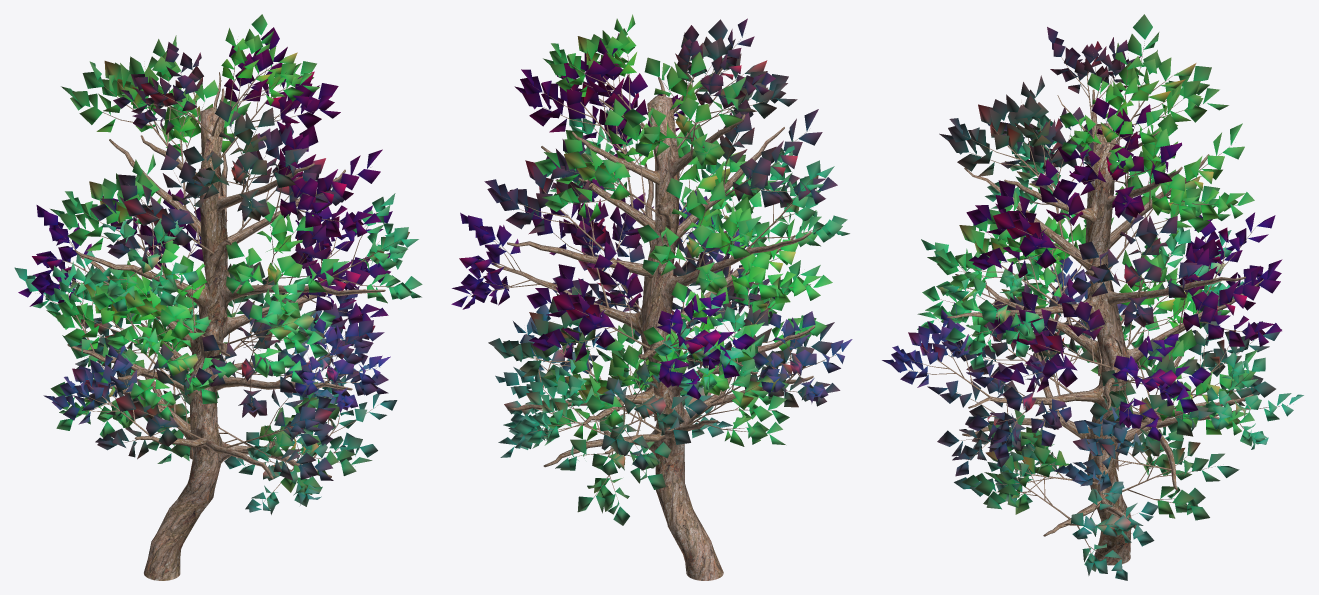
The model's file is DM.Tree.Maple.02.fbx.
3 views of the same model, side by side, from view 1: azimuth 30°, elevation 25°; view 2: azimuth 150°, elevation 25°; view 3: azimuth 270°, elevation 25° (orthographic).
Visible parts, largest first — view 1: Tree_1, Tree_0; view 2: Tree_1, Tree_0; view 3: Tree_1, Tree_0.
Part boxes in pixels (left/top/right/bottom): Tree_1: left=14, top=14, right=422, bottom=514; Tree_0: left=38, top=39, right=398, bottom=580; Tree_1: left=451, top=14, right=852, bottom=525; Tree_0: left=470, top=33, right=843, bottom=580; Tree_1: left=882, top=14, right=1303, bottom=580; Tree_0: left=908, top=41, right=1290, bottom=565.
Bounding box in the file's own units: 384 × 538 × 392.
Materials: 1 (1 with a texture image).
